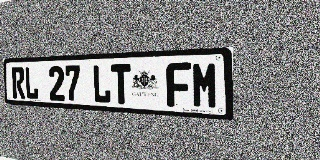2: (49, 66, 65, 101)
7: (64, 65, 81, 102)
F: (166, 62, 191, 108)
L: (92, 64, 111, 104), (24, 66, 39, 100)
M: (192, 61, 218, 109)
R: (11, 67, 25, 99)
T: (111, 64, 131, 105)
